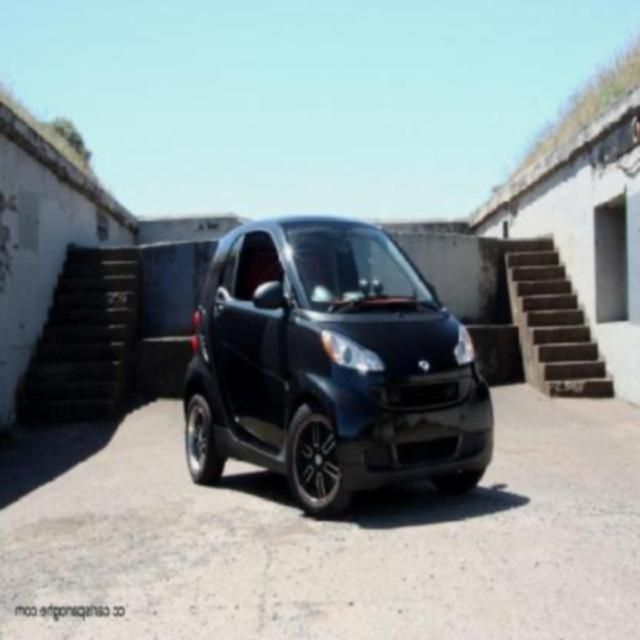stair: (17, 246, 140, 420), (504, 238, 614, 398)
